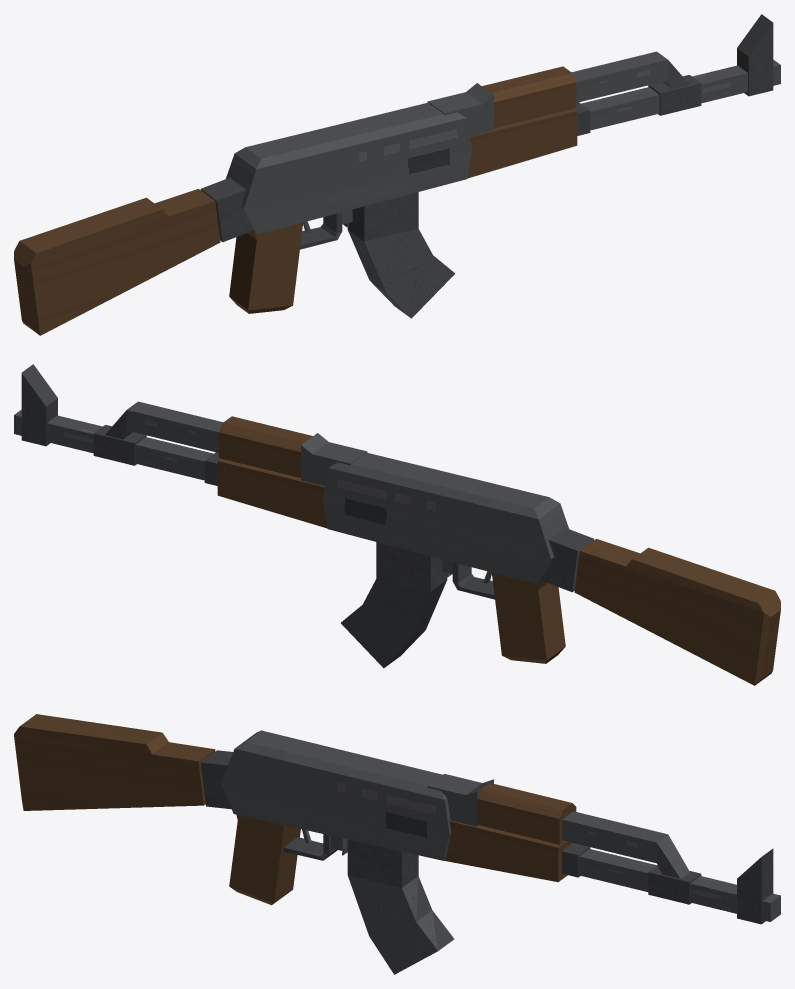
3 views of the same model, one above another, from view 1: azimuth 30°, elevation 25°; view 2: azimuth 150°, elevation 25°; view 3: azimuth 330°, elevation 25° (orthographic).
Visible parts, largest first — view 1: main_0, metal9_15, magazine_9, handle_10, wood1_2, wood2_3, pipething_4, upperpipething_5, metal3_8, metal1_1, metal8_14, metal2_6 (+1 smaller); view 2: main_0, metal9_15, magazine_9, handle_10, wood1_2, wood2_3, pipething_4, upperpipething_5, metal3_8, metal1_1, metal8_14, metal2_6 (+1 smaller); view 3: main_0, metal9_15, magazine_9, handle_10, wood1_2, upperpipething_5, wood2_3, pipething_4, metal3_8, metal1_1, metal8_14, metal2_6 (+2 smaller).
Part boxes in pixels (left/top/right/bottom): main_0: left=226, top=102, right=472, bottom=234; metal9_15: left=14, top=189, right=220, bottom=335; magazine_9: left=347, top=192, right=455, bottom=318; handle_10: left=229, top=222, right=302, bottom=313; wood1_2: left=467, top=108, right=577, bottom=178; wood2_3: left=482, top=66, right=576, bottom=127; pipething_4: left=581, top=59, right=780, bottom=130; upperpipething_5: left=572, top=51, right=689, bottom=102; metal3_8: left=737, top=14, right=773, bottom=96; metal1_1: left=427, top=83, right=493, bottom=135; metal8_14: left=200, top=177, right=252, bottom=242; metal2_6: left=648, top=75, right=701, bottom=115; main_0: left=322, top=452, right=568, bottom=584; metal9_15: left=574, top=539, right=780, bottom=685; magazine_9: left=341, top=542, right=447, bottom=668; handle_10: left=492, top=572, right=565, bottom=663; wood1_2: left=217, top=458, right=327, bottom=528; wood2_3: left=218, top=416, right=312, bottom=477; pipething_4: left=14, top=409, right=213, bottom=480; upperpipething_5: left=105, top=401, right=222, bottom=452; metal3_8: left=21, top=364, right=57, bottom=446; metal1_1: left=301, top=433, right=367, bottom=485; metal8_14: left=542, top=527, right=594, bottom=592; metal2_6: left=93, top=425, right=146, bottom=465; main_0: left=221, top=730, right=451, bottom=860; metal9_15: left=14, top=714, right=215, bottom=810; magazine_9: left=347, top=839, right=454, bottom=974; handle_10: left=229, top=814, right=300, bottom=905; wood1_2: left=444, top=820, right=572, bottom=882; upperpipething_5: left=562, top=811, right=689, bottom=878; wood2_3: left=477, top=783, right=576, bottom=844; pipething_4: left=579, top=849, right=780, bottom=921; metal3_8: left=737, top=848, right=773, bottom=924; metal1_1: left=427, top=774, right=493, bottom=826; metal8_14: left=200, top=750, right=232, bottom=809; metal2_6: left=648, top=865, right=701, bottom=904.
Bounding box in the file's own units: 5.74 × 1.49 × 0.3125.
Materials: 2 (2 with a texture image).
